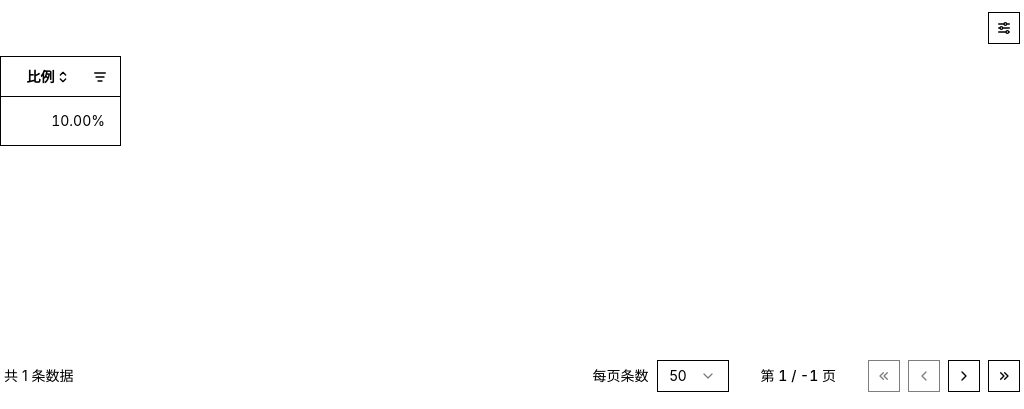
Test: DataTable cell selection › pastes and copies percent cells through percentage-point text without adornments
Click the cell "10.00%": click(60, 121) x1=0 y1=97 x2=120 y2=145
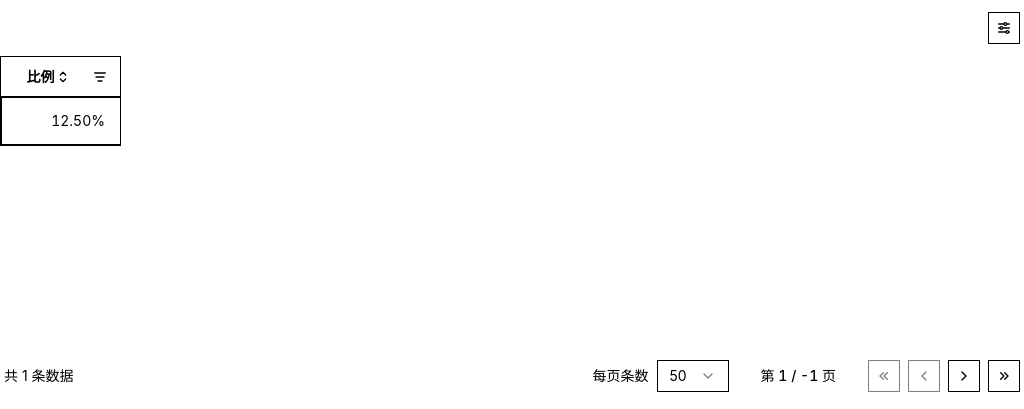
Check: the cell "12.50%" is shown, box x1=0 y1=97 x2=120 y2=145
